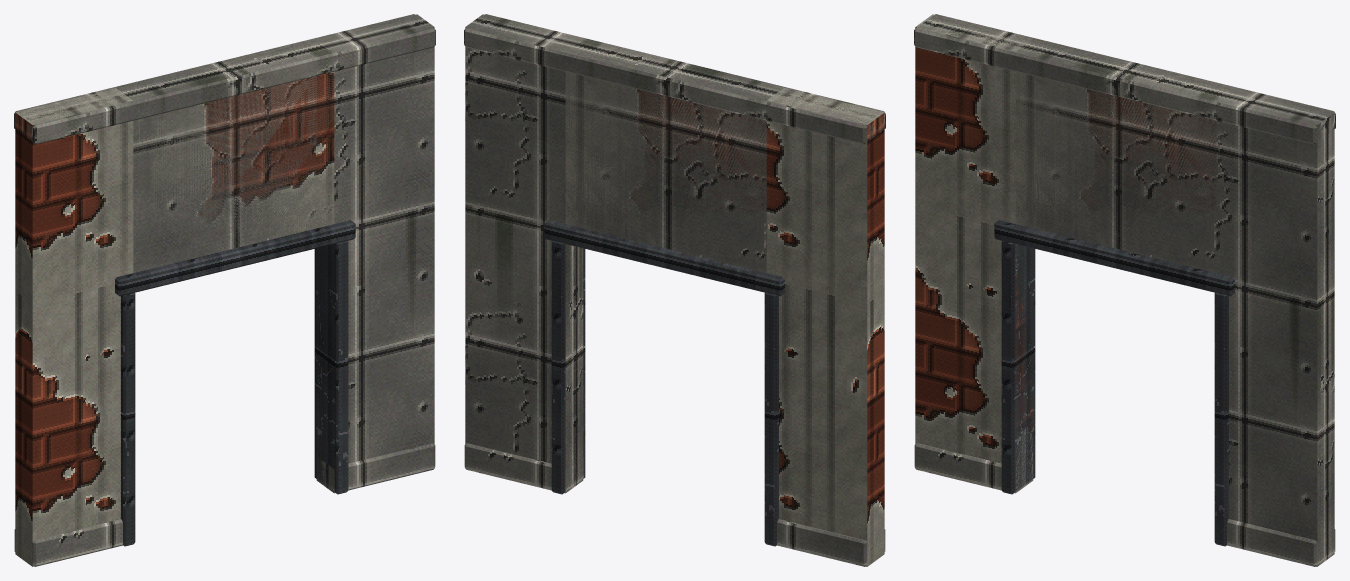
The model's file is wall_plaster_window.glb.
3 views of the same model, side by side, from view 1: azimuth 30°, elevation 25°; view 2: azimuth 150°, elevation 25°; view 3: azimuth 330°, elevation 25° (orthographic).
Parts seen in each view (by area): view 1: wall_plaster_window_mesh, wall_plaster_window_col-colonly.001, wall_plaster_window_col-colonly.002; view 2: wall_plaster_window_mesh, wall_plaster_window_col-colonly.001, wall_plaster_window_col-colonly.002; view 3: wall_plaster_window_mesh, wall_plaster_window_col-colonly.001, wall_plaster_window_col-colonly.002.
Part boxes in pixels (x1,y1,x2,y2): wall_plaster_window_mesh: (14, 14, 435, 566); wall_plaster_window_col-colonly.001: (316, 14, 434, 493); wall_plaster_window_col-colonly.002: (116, 39, 334, 272); wall_plaster_window_mesh: (464, 14, 885, 566); wall_plaster_window_col-colonly.001: (465, 14, 583, 493); wall_plaster_window_col-colonly.002: (565, 39, 783, 272); wall_plaster_window_mesh: (914, 14, 1335, 566); wall_plaster_window_col-colonly.001: (1216, 88, 1334, 566); wall_plaster_window_col-colonly.002: (1015, 39, 1233, 272).
Size of what is drawn, in the model's own units: 4 by 4.2 by 0.44.
Materials: 3 (3 with a texture image).
